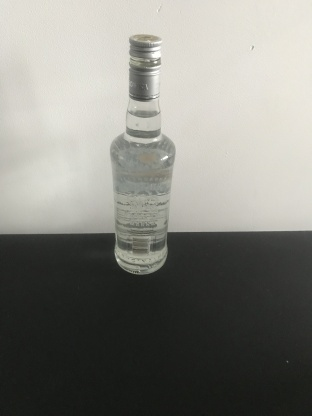nakretka: (127, 32, 163, 102)
